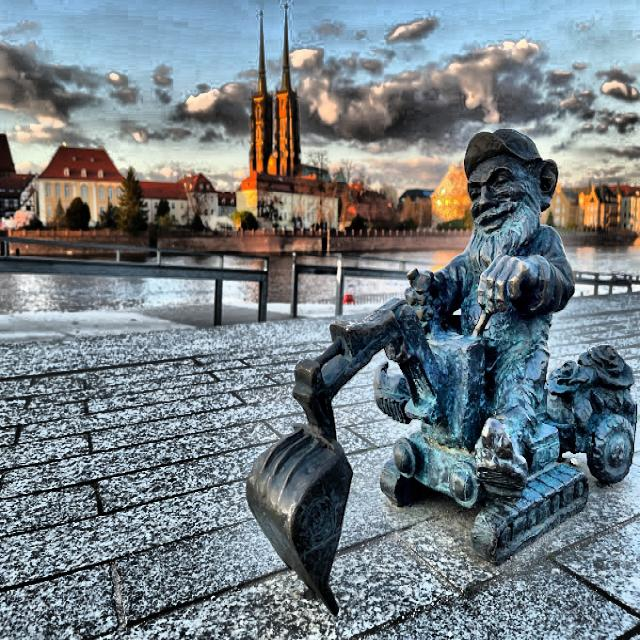Koparkus: (248, 130, 638, 613)
